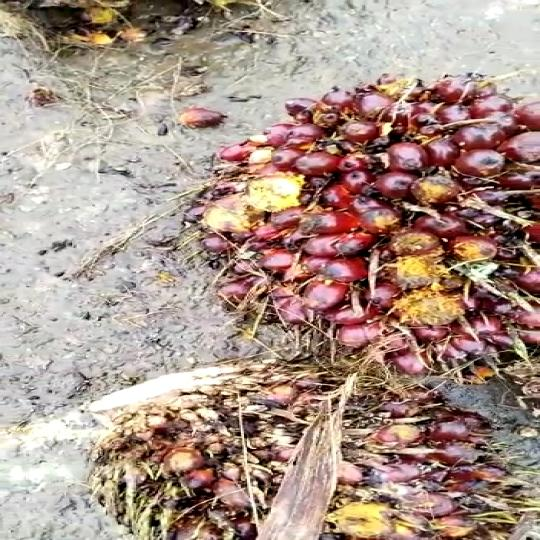masak: (191, 60, 540, 402), (44, 334, 540, 540)
